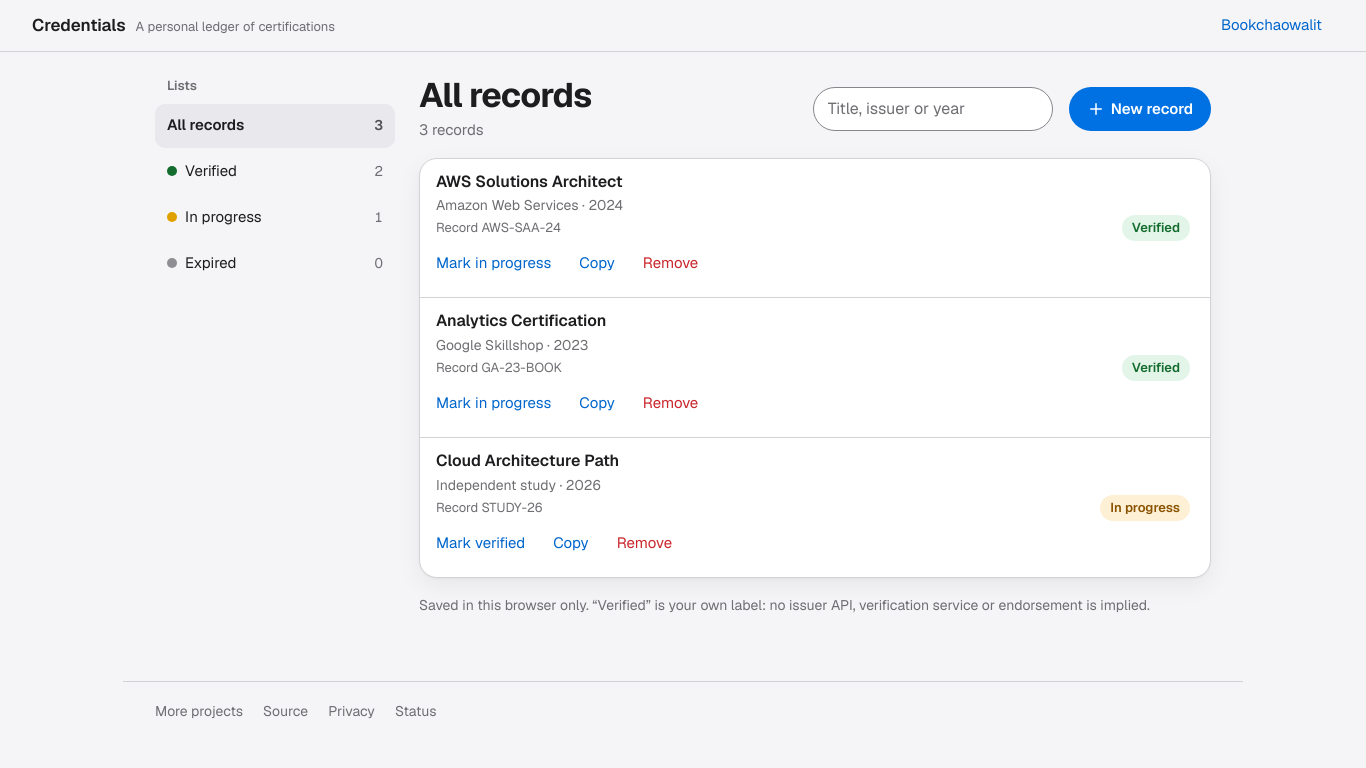
Test case: lists and search › shows a separate empty list state with a way back to all records
The width and height of the screenshot is (1366, 768).
Click the button "Expired 0" at (275, 264), box x1=155 y1=242 x2=395 y2=286
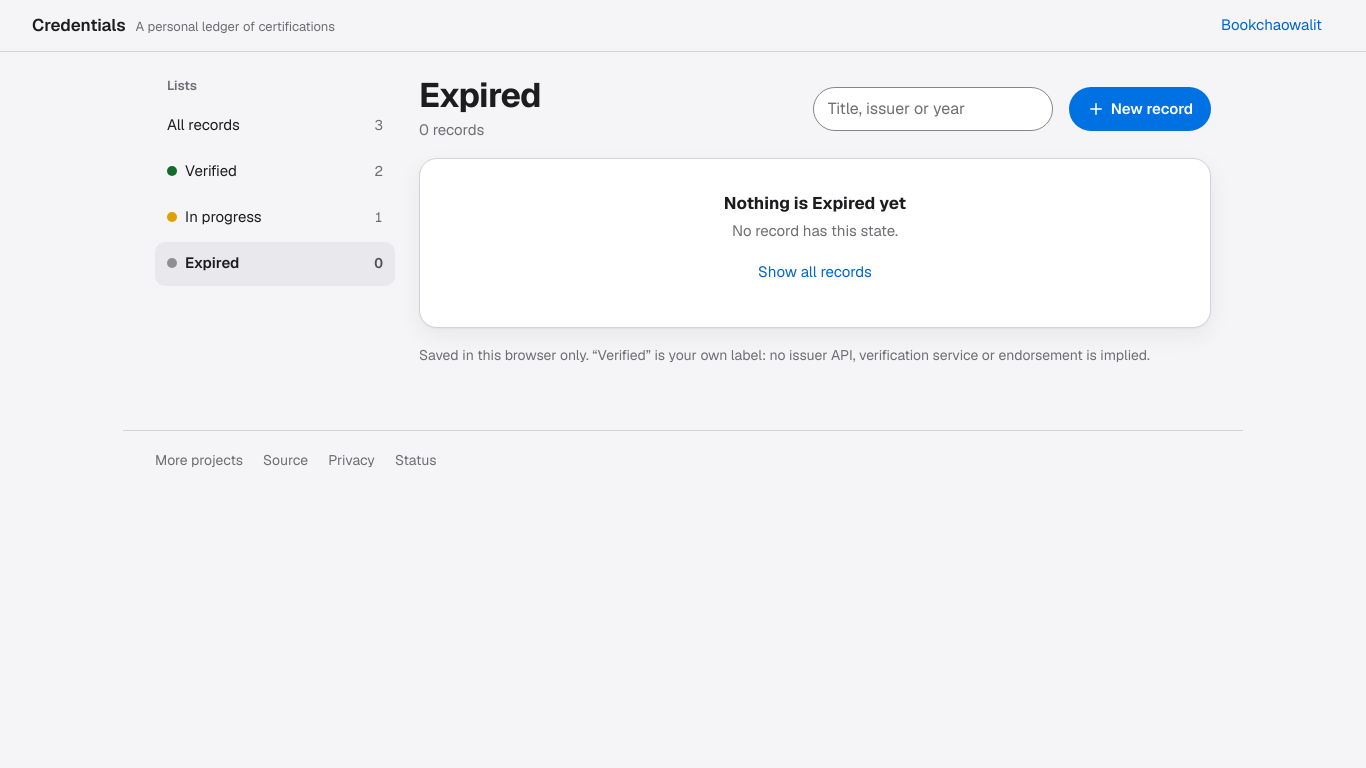
Expected: the text "Nothing is Expired yet" is shown, x1=724 y1=192 x2=906 y2=214
Click the button "Show all records" at (815, 273), box x1=746 y1=251 x2=884 y2=295
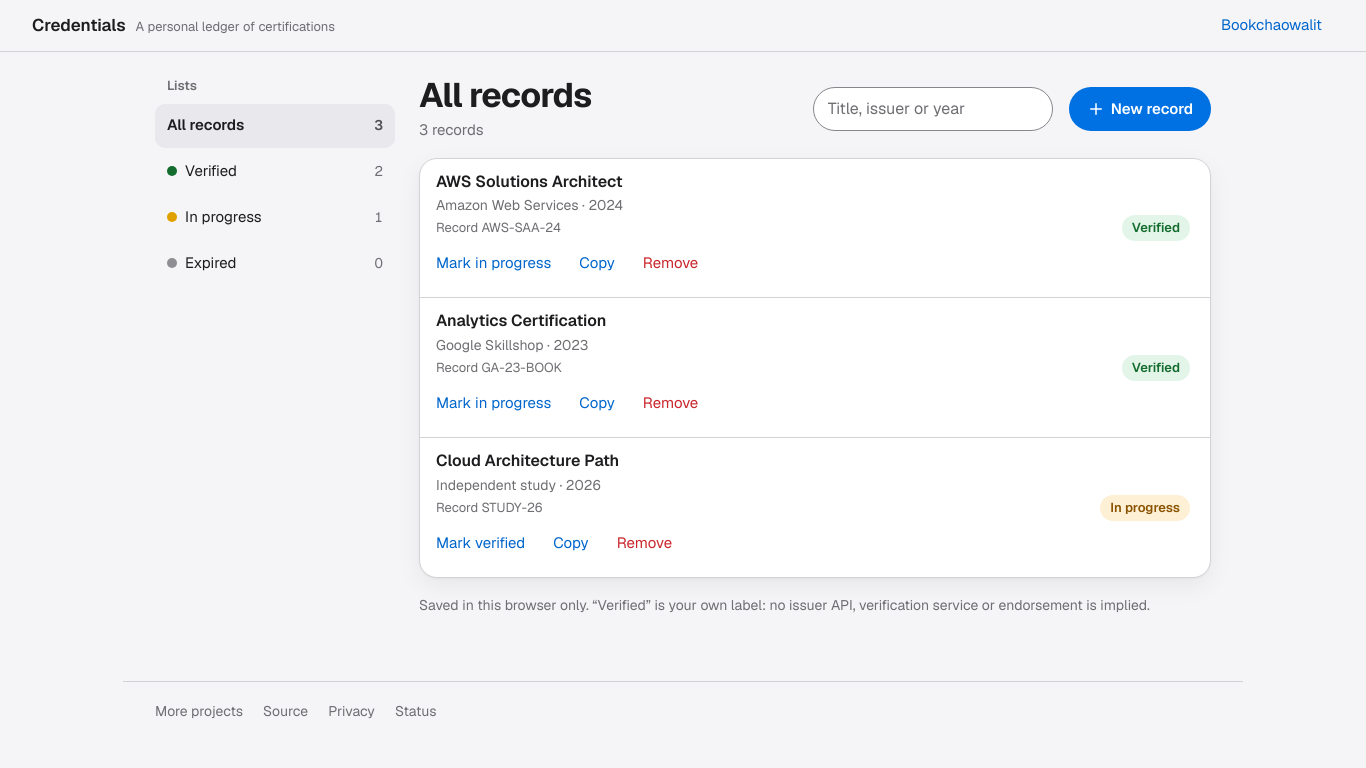
Expected: the heading "All records" is shown, x1=419 y1=76 x2=592 y2=115
